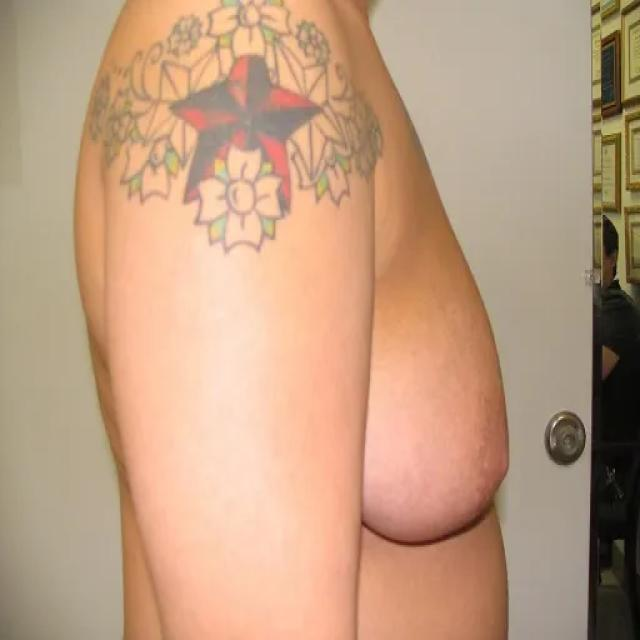Seno ileso: (352, 120, 520, 579)
